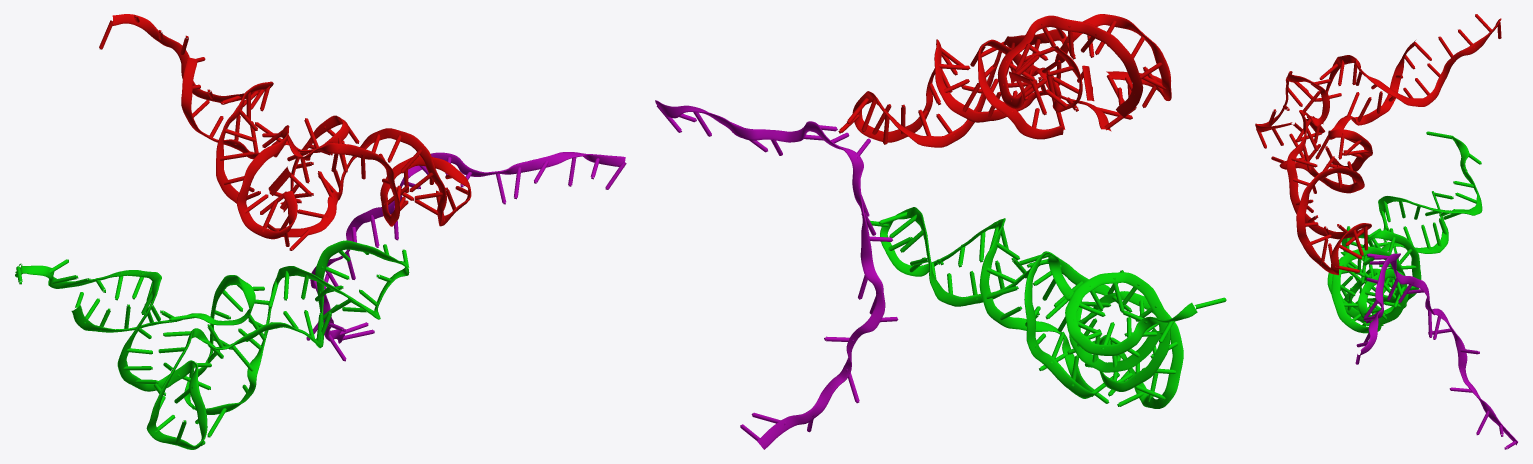
File: mrna-trnas.glb
3 renders of one model, left to right at view 1: azimuth 30°, elevation 25°; view 2: azimuth 150°, elevation 25°; view 3: azimuth 270°, elevation 25°, orthographic. The views are drawn at different scales.
Visible parts, largest first — view 1: vmd_mol0_rep2, vmd_mol0_rep4, vmd_mol0_rep5; view 2: vmd_mol0_rep4, vmd_mol0_rep2, vmd_mol0_rep5; view 3: vmd_mol0_rep2, vmd_mol0_rep4, vmd_mol0_rep5.
Boxes of the visible parts, left/top/right/bottom form: vmd_mol0_rep2: left=99, top=14, right=471, bottom=250; vmd_mol0_rep4: left=15, top=240, right=409, bottom=449; vmd_mol0_rep5: left=306, top=152, right=626, bottom=361; vmd_mol0_rep4: left=870, top=207, right=1226, bottom=408; vmd_mol0_rep2: left=838, top=14, right=1171, bottom=147; vmd_mol0_rep5: left=655, top=100, right=898, bottom=449; vmd_mol0_rep2: left=1255, top=14, right=1501, bottom=275; vmd_mol0_rep4: left=1327, top=131, right=1482, bottom=333; vmd_mol0_rep5: left=1355, top=253, right=1517, bottom=449.
Size of the model in its own units: 1.25 by 0.8468 by 0.5981.
